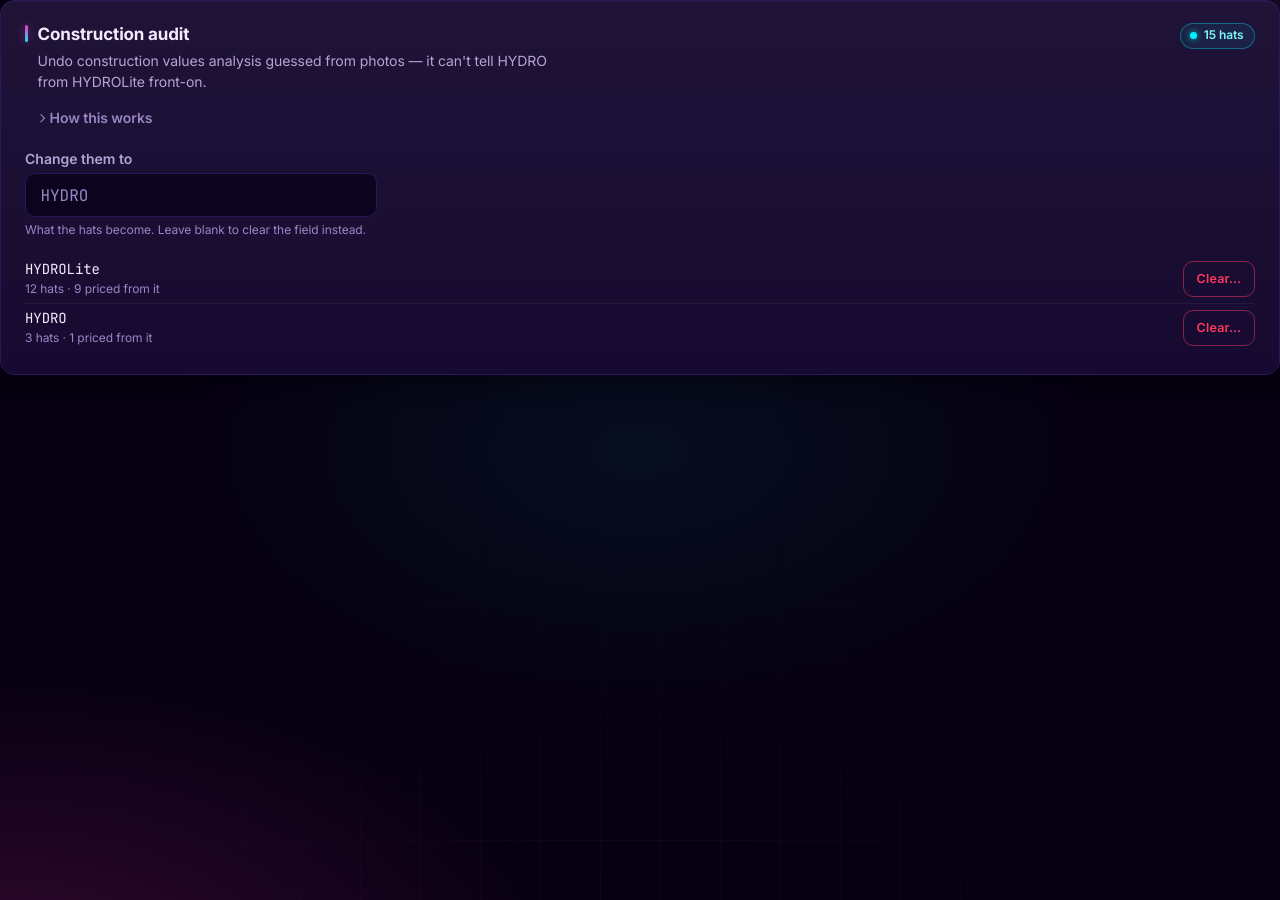
Test: ConstructionAuditCard › agrees in number in the preview
The image size is (1280, 900).
Click the button with aria-label "Clear HYDROLite…": (1219, 279) [1183,261,1255,297]
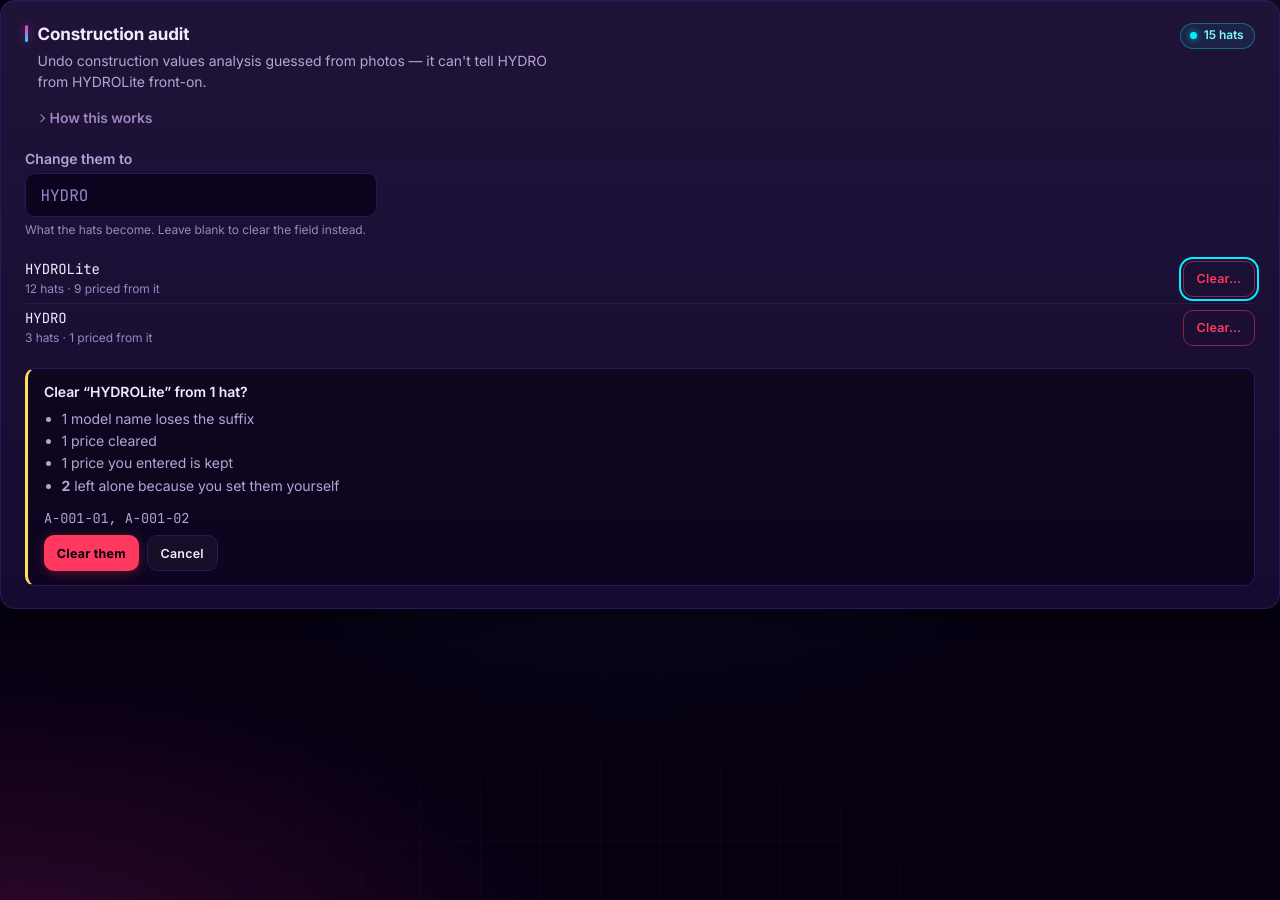
Now the text "Clear “HYDROLite” from 1 hat?" is shown, box [44,383,248,400]
Now the list item "1 model name loses the suffix" is shown, box [62,410,254,427]
Now the list item "1 price you entered is kept" is shown, box [62,454,233,471]
